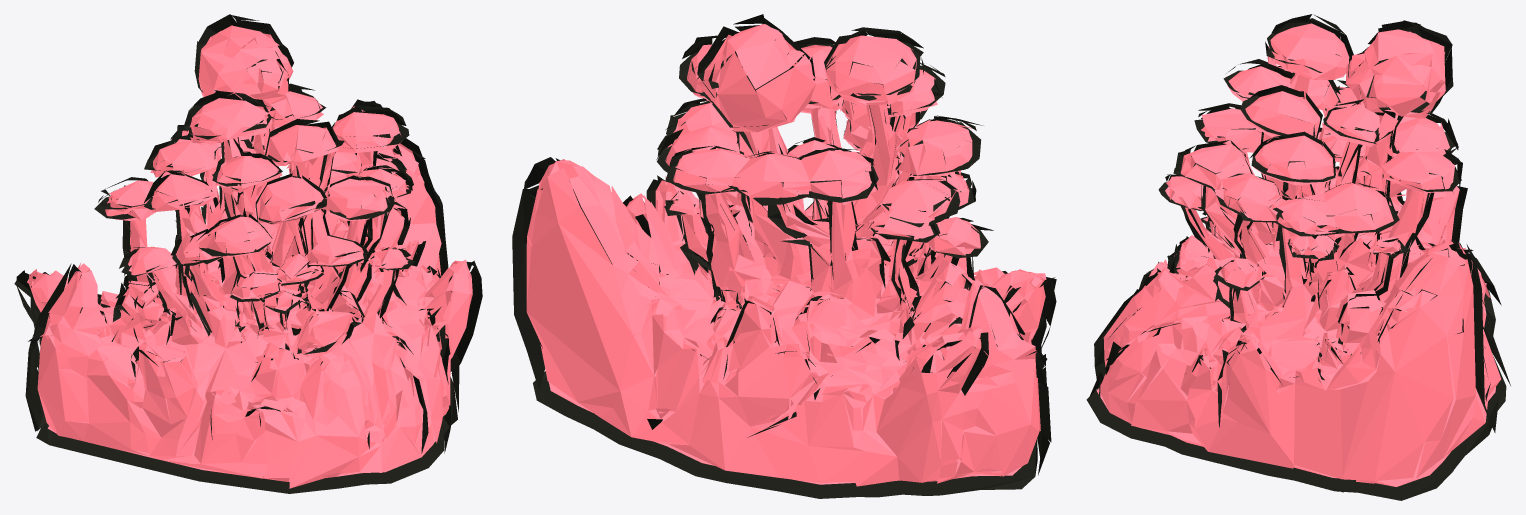
Rendered from df_v2_mushroom_cluster_large_c_a.glb.
The picture shows the model from 3 angles, left to right: view 1: azimuth 30°, elevation 25°; view 2: azimuth 150°, elevation 25°; view 3: azimuth 270°, elevation 25°; orthographic projection. The views are drawn at different scales.
Parts seen in each view (by area): view 1: mushroom_cluster_large_c_mesh_01, mushroom_cluster_large_c_mesh_01_ink_outline; view 2: mushroom_cluster_large_c_mesh_01, mushroom_cluster_large_c_mesh_01_ink_outline; view 3: mushroom_cluster_large_c_mesh_01, mushroom_cluster_large_c_mesh_01_ink_outline.
Part boxes in pixels (x1,y1,x2,y2): mushroom_cluster_large_c_mesh_01: [27, 25, 472, 488]; mushroom_cluster_large_c_mesh_01_ink_outline: [14, 14, 482, 493]; mushroom_cluster_large_c_mesh_01: [526, 24, 1046, 486]; mushroom_cluster_large_c_mesh_01_ink_outline: [512, 14, 1056, 498]; mushroom_cluster_large_c_mesh_01: [1096, 23, 1501, 486]; mushroom_cluster_large_c_mesh_01_ink_outline: [1086, 14, 1510, 500].
Size of the model in its own units: 1.89 by 1.51 by 1.53.
